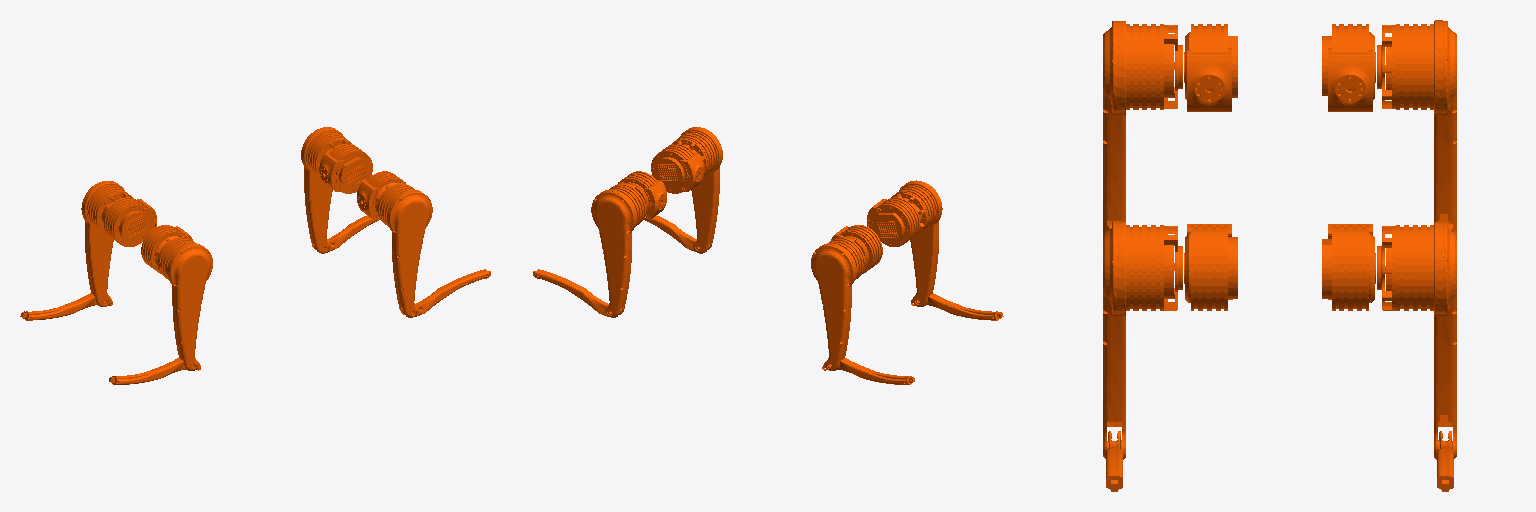
URDF robot description (jamal_description):
<?xml version="1.0" encoding="utf-8"?>
<!-- =================================================================================== -->
<!-- |    This document was autogenerated by xacro from [local-path]/legged_control_ws/src/legged_control/legged_examples/legged_unitree/legged_unitree_description/urdf/robot.xacro | -->
<!-- |    EDITING THIS FILE BY HAND IS NOT RECOMMENDED                                 | -->
<!-- =================================================================================== -->
<robot name="jamal_description">
  <material name="black">
    <color rgba="0.0 0.0 0.0 1.0"/>
  </material>
  <material name="blue">
    <color rgba="0.0 0.0 0.8 1.0"/>
  </material>
  <material name="green">
    <color rgba="0.0 0.8 0.0 1.0"/>
  </material>
  <material name="grey">
    <color rgba="0.2 0.2 0.2 1.0"/>
  </material>
  <material name="silver">
    <color rgba="0.9137254901960784 0.9137254901960784 0.8470588235294118 1.0"/>
  </material>
  <material name="orange">
    <color rgba="1.0 0.4235294117647059 0.0392156862745098 1.0"/>
  </material>
  <material name="brown">
    <color rgba="0.8705882352941177 0.8117647058823529 0.7647058823529411 1.0"/>
  </material>
  <material name="red">
    <color rgba="0.8 0.0 0.0 1.0"/>
  </material>
  <material name="white">
    <color rgba="1.0 1.0 1.0 1.0"/>
  </material>
  <link name="base">
    <visual>
      <origin rpy="0 0 0" xyz="0 0 0"/>
      <geometry>
        <mesh filename="../dae/base.dae" scale="1 1 1"/>
      </geometry>
    </visual>
    <collision>
      <origin rpy="0 0 0" xyz="0 0 0"/>
      <geometry>
        <!-- <box size="0.3762 0.0935 0.114"/> -->
        <box size="0.3762 0.2 0.114"/>
      </geometry>
    </collision>
    <inertial>
      <!-- <origin rpy="0 0 0" xyz="0.03 0 0.0"/> -->
      <origin rpy="0 0 0" xyz="0.0 0 0.0"/>
      <mass value="12.8185384756311"/>
      <inertia ixx="0.0565667940678376" ixy="-8.54731557026013e-06" ixz="3.411601276539e-05" iyy="0.0364645326398335" iyz="-4.86965244292946e-06" izz="0.0737588756462406"/>
    </inertial>
  </link>
  <joint name="FL_hip_joint" type="revolute">
    <origin rpy="0 0 0" xyz="0.2699 0.08028 0"/>
    <parent link="base"/>
    <child link="LF_hip"/>
    <axis xyz="1 0 0"/>
    <dynamics damping="0.01" friction="0.2"/>
    <limit effort="100" lower="-0.863" upper="0.863" velocity="30"/>
  </joint>
  <link name="LF_hip">
    <visual>
      <origin rpy="0 0 0" xyz="0 0 0"/>
      <geometry>
        <mesh filename="../dae/hip.dae" scale="1 1 1"/>
      </geometry>
      <material name="orange"/>
    </visual>
    <collision>
      <origin rpy="1.5707963267948966 0 0" xyz="0 0 0"/>
      <geometry>
        <cylinder length="0.04" radius="0.046"/>
      </geometry>
    </collision>
    <inertial>
      <origin rpy="0 0 0" xyz="0.0 0.0 0.0"/>
      <mass value="0.933762854916433"/>
      <inertia ixx="0.000832273911083319" ixy="2.01742652907359e-06" ixz="-9.96248193966734e-07" iyy="0.00106512043176046" iyz="-3.27660400510853e-06" izz="0.000803680416601427"/>
    </inertial>
  </link>
  <joint name="FL_thigh_joint" type="revolute">
    <origin rpy="0 0 0" xyz="0 0.10755 0"/>
    <parent link="LF_hip"/>
    <child link="LF_thigh"/>
    <axis xyz="0 1 0"/>
    <dynamics damping="0.01" friction="0.2"/>
    <limit effort="100" lower="0.0" upper="1.57" velocity="30"/>
  </joint>
  <link name="LF_thigh">
    <visual>
      <origin rpy="0 0 0" xyz="0 0 0"/>
      <geometry>
        <mesh filename="../dae/thigh.dae" scale="1 1 1"/>
      </geometry>
      <material name="orange"/>
    </visual>
    <collision>
      <!-- <origin rpy="0 ${pi/2.0+0.1} 0" xyz="${thigh_x_offset} 0 ${-thigh_length/2.0}"/> -->
      <origin rpy="0 1.5707963267948966 0" xyz="0.0 0 -0.1125"/>
      <geometry>
        <box size="0.225 0.0245 0.034"/>
      </geometry>
    </collision>
    <collision>
      <origin rpy="1.5707963267948966 0 0" xyz="0 -0.008 0"/>
      <geometry>
        <cylinder length="0.032" radius="0.041"/>
      </geometry>
    </collision>
    <inertial>
      <origin rpy="0 0 0" xyz="0.0 0.0 0.0"/>
      <mass value="1.32134262348697"/>
      <inertia ixx="0.00262880898900224" ixy="3.0753036678596e-07" ixz="-6.6121911239445e-05" iyy="0.00316091750463634" iyz="4.01609105247509e-05" izz="0.00121962195056961"/>
    </inertial>
  </link>
  <joint name="FL_calf_joint" type="revolute">
    <origin rpy="0 0 0" xyz="0 0 -0.225"/>
    <parent link="LF_thigh"/>
    <child link="LF_calf"/>
    <axis xyz="0 1 0"/>
    <dynamics damping="0.01" friction="0.2"/>
    <limit effort="100" lower="-2.62" upper="-0.78" velocity="30"/>
  </joint>
  <link name="LF_calf">
    <visual>
      <!-- <origin rpy="0 0.06 0" xyz="0 0 0"/> -->
      <origin rpy="0 0 0" xyz="0 0 0"/>
      <geometry>
        <mesh filename="../dae/calf.dae" scale="1 1 1"/>
      </geometry>
      <material name="orange"/>
    </visual>
    <collision>
      <origin rpy="0 1.5707963267948966 0" xyz="0.0 0 -0.1175"/>
      <geometry>
        <box size="0.23 0.016 0.016"/>
      </geometry>
    </collision>
    <inertial>
      <origin rpy="0 0 0" xyz="0.0 0.0 0.0"/>
      <mass value="0.12879265462489"/>
      <inertia ixx="0.000445341853265945" ixy="-7.71823686634482e-09" ixz="7.55836697902452e-05" iyy="0.000465686753688402" iyz="4.84096470394828e-09" izz="2.34278965180016e-05"/>
    </inertial>
  </link>
  <joint dont_collapse="true" name="LF_foot_fixed" type="fixed">
    <origin rpy="0 0 0" xyz="0 0 -0.23"/>
    <parent link="LF_calf"/>
    <child link="LF_foot"/>
  </joint>
  <link name="LF_foot">
    <visual>
      <origin xyz="0 0 0" rpy="0 0 0"/>
      <geometry>
        <mesh filename="../dae/foot.dae"/>
      </geometry>
      <material name="orange"/>
    </visual>
    <collision>
      <origin rpy="0 0 0" xyz="0 0 0"/>
      <geometry>
        <sphere radius="0.02"/>
      </geometry>
    </collision>
    <inertial>
      <mass value="0.06"/>
      <inertia ixx="6.936000000000001e-06" ixy="0.0" ixz="0.0" iyy="6.936000000000001e-06" iyz="0.0" izz="6.936000000000001e-06"/>
    </inertial>
  </link>
  <joint name="RL_hip_joint" type="revolute">
    <origin rpy="0 0 0" xyz="-0.2699 0.08028 0"/>
    <parent link="base"/>
    <child link="LH_hip"/>
    <axis xyz="1 0 0"/>
    <dynamics damping="0.01" friction="0.2"/>
    <limit effort="100" lower="-0.863" upper="0.863" velocity="30"/>
  </joint>
  <link name="LH_hip">
    <visual>
      <origin rpy="0 3.141592653589793 0" xyz="0 0 0"/>
      <geometry>
        <mesh filename="../dae/hip.dae" scale="1 1 1"/>
      </geometry>
      <material name="orange"/>
    </visual>
    <collision>
      <origin rpy="1.5707963267948966 0 0" xyz="0 0 0"/>
      <geometry>
        <cylinder length="0.04" radius="0.046"/>
      </geometry>
    </collision>
    <inertial>
      <origin rpy="0 0 0" xyz="-0.0 0.0 0.0"/>
      <mass value="0.933762854916433"/>
      <inertia ixx="0.000832273911083319" ixy="-2.01742652907359e-06" ixz="9.96248193966734e-07" iyy="0.00106512043176046" iyz="-3.27660400510853e-06" izz="0.000803680416601427"/>
    </inertial>
  </link>
  <joint name="RL_thigh_joint" type="revolute">
    <origin rpy="0 0 0" xyz="0 0.10755 0"/>
    <parent link="LH_hip"/>
    <child link="LH_thigh"/>
    <axis xyz="0 1 0"/>
    <dynamics damping="0.01" friction="0.2"/>
    <limit effort="100" lower="-1.57" upper="0.0" velocity="30"/>
  </joint>
  <link name="LH_thigh">
    <visual>
      <origin rpy="0 0 0" xyz="0 0 0"/>
      <geometry>
        <mesh filename="../dae/thigh.dae" scale="1 1 1"/>
      </geometry>
      <material name="orange"/>
    </visual>
    <collision>
      <!-- <origin rpy="0 ${pi/2.0+0.1} 0" xyz="${thigh_x_offset} 0 ${-thigh_length/2.0}"/> -->
      <origin rpy="0 1.5707963267948966 0" xyz="0.0 0 -0.1125"/>
      <geometry>
        <box size="0.225 0.0245 0.034"/>
      </geometry>
    </collision>
    <collision>
      <origin rpy="1.5707963267948966 0 0" xyz="0 -0.008 0"/>
      <geometry>
        <cylinder length="0.032" radius="0.041"/>
      </geometry>
    </collision>
    <inertial>
      <origin rpy="0 0 0" xyz="0.0 0.0 0.0"/>
      <mass value="1.32134262348697"/>
      <inertia ixx="0.00262880898900224" ixy="3.0753036678596e-07" ixz="-6.6121911239445e-05" iyy="0.00316091750463634" iyz="4.01609105247509e-05" izz="0.00121962195056961"/>
    </inertial>
  </link>
  <joint name="RL_calf_joint" type="revolute">
    <origin rpy="0 0 0" xyz="0 0 -0.225"/>
    <parent link="LH_thigh"/>
    <child link="LH_calf"/>
    <axis xyz="0 1 0"/>
    <dynamics damping="0.01" friction="0.2"/>
    <limit effort="100" lower="0.78" upper="2.62" velocity="30"/>
  </joint>
  <link name="LH_calf">
    <visual>
      <!-- <origin rpy="0 0.06 0" xyz="0 0 0"/> -->
      <origin rpy="0 0 0" xyz="0 0 0"/>
      <geometry>
        <mesh filename="../dae/calf.dae" scale="1 1 1"/>
      </geometry>
      <material name="orange"/>
    </visual>
    <collision>
      <origin rpy="0 1.5707963267948966 0" xyz="0.0 0 -0.1175"/>
      <geometry>
        <box size="0.23 0.016 0.016"/>
      </geometry>
    </collision>
    <inertial>
      <origin rpy="0 0 0" xyz="0.0 0.0 0.0"/>
      <mass value="0.12879265462489"/>
      <inertia ixx="0.000445341853265945" ixy="-7.71823686634482e-09" ixz="7.55836697902452e-05" iyy="0.000465686753688402" iyz="4.84096470394828e-09" izz="2.34278965180016e-05"/>
    </inertial>
  </link>
  <joint dont_collapse="true" name="LH_foot_fixed" type="fixed">
    <origin rpy="0 0 0" xyz="0 0 -0.23"/>
    <parent link="LH_calf"/>
    <child link="LH_foot"/>
  </joint>
  <link name="LH_foot">
    <visual>
      <origin xyz="0 0 0" rpy="0 0 0"/>
      <geometry>
        <mesh filename="../dae/foot.dae"/>
      </geometry>
      <material name="orange"/>
    </visual>
    <collision>
      <origin rpy="0 0 0" xyz="0 0 0"/>
      <geometry>
        <sphere radius="0.02"/>
      </geometry>
    </collision>
    <inertial>
      <mass value="0.06"/>
      <inertia ixx="6.936000000000001e-06" ixy="0.0" ixz="0.0" iyy="6.936000000000001e-06" iyz="0.0" izz="6.936000000000001e-06"/>
    </inertial>
  </link>
  <joint name="FR_hip_joint" type="revolute">
    <origin rpy="0 0 0" xyz="0.2699 -0.08028 0"/>
    <parent link="base"/>
    <child link="RF_hip"/>
    <axis xyz="1 0 0"/>
    <dynamics damping="0.01" friction="0.2"/>
    <limit effort="100" lower="-0.863" upper="0.863" velocity="30"/>
  </joint>
  <link name="RF_hip">
    <visual>
      <origin rpy="3.141592653589793 0 0" xyz="0 0 0"/>
      <geometry>
        <mesh filename="../dae/hip.dae" scale="1 1 1"/>
      </geometry>
      <material name="orange"/>
    </visual>
    <collision>
      <origin rpy="1.5707963267948966 0 0" xyz="0 0 0"/>
      <geometry>
        <cylinder length="0.04" radius="0.046"/>
      </geometry>
    </collision>
    <inertial>
      <origin rpy="0 0 0" xyz="0.0 -0.0 0.0"/>
      <mass value="0.933762854916433"/>
      <inertia ixx="0.000832273911083319" ixy="-2.01742652907359e-06" ixz="-9.96248193966734e-07" iyy="0.00106512043176046" iyz="3.27660400510853e-06" izz="0.000803680416601427"/>
    </inertial>
  </link>
  <joint name="FR_thigh_joint" type="revolute">
    <origin rpy="0 0 0" xyz="0 -0.10755 0"/>
    <parent link="RF_hip"/>
    <child link="RF_thigh"/>
    <axis xyz="0 1 0"/>
    <dynamics damping="0.01" friction="0.2"/>
    <limit effort="100" lower="0.0" upper="1.57" velocity="30"/>
  </joint>
  <link name="RF_thigh">
    <visual>
      <origin rpy="0 0 0" xyz="0 0 0"/>
      <geometry>
        <mesh filename="../dae/thigh_mirror.dae" scale="1 1 1"/>
      </geometry>
      <material name="orange"/>
    </visual>
    <collision>
      <!-- <origin rpy="0 ${pi/2.0+0.1} 0" xyz="${thigh_x_offset} 0 ${-thigh_length/2.0}"/> -->
      <origin rpy="0 1.5707963267948966 0" xyz="0.0 0 -0.1125"/>
      <geometry>
        <box size="0.225 0.0245 0.034"/>
      </geometry>
    </collision>
    <collision>
      <origin rpy="1.5707963267948966 0 0" xyz="0 0.008 0"/>
      <geometry>
        <cylinder length="0.032" radius="0.041"/>
      </geometry>
    </collision>
    <inertial>
      <origin rpy="0 0 0" xyz="0.0 -0.0 0.0"/>
      <mass value="1.32134262348697"/>
      <inertia ixx="0.00262880898900224" ixy="-3.0753036678596e-07" ixz="-6.6121911239445e-05" iyy="0.00316091750463634" iyz="-4.01609105247509e-05" izz="0.00121962195056961"/>
    </inertial>
  </link>
  <joint name="FR_calf_joint" type="revolute">
    <origin rpy="0 0 0" xyz="0 0 -0.225"/>
    <parent link="RF_thigh"/>
    <child link="RF_calf"/>
    <axis xyz="0 1 0"/>
    <dynamics damping="0.01" friction="0.2"/>
    <limit effort="100" lower="-2.62" upper="-0.78" velocity="30"/>
  </joint>
  <link name="RF_calf">
    <visual>
      <!-- <origin rpy="0 0.06 0" xyz="0 0 0"/> -->
      <origin rpy="0 0 0" xyz="0 0 0"/>
      <geometry>
        <mesh filename="../dae/calf.dae" scale="1 1 1"/>
      </geometry>
      <material name="orange"/>
    </visual>
    <collision>
      <origin rpy="0 1.5707963267948966 0" xyz="0.0 0 -0.1175"/>
      <geometry>
        <box size="0.23 0.016 0.016"/>
      </geometry>
    </collision>
    <inertial>
      <origin rpy="0 0 0" xyz="0.0 0.0 0.0"/>
      <mass value="0.12879265462489"/>
      <inertia ixx="0.000445341853265945" ixy="-7.71823686634482e-09" ixz="7.55836697902452e-05" iyy="0.000465686753688402" iyz="4.84096470394828e-09" izz="2.34278965180016e-05"/>
    </inertial>
  </link>
  <joint dont_collapse="true" name="RF_foot_fixed" type="fixed">
    <origin rpy="0 0 0" xyz="0 0 -0.23"/>
    <parent link="RF_calf"/>
    <child link="RF_foot"/>
  </joint>
  <link name="RF_foot">
    <visual>
      <origin xyz="0 0 0" rpy="0 0 0"/>
      <geometry>
        <mesh filename="../dae/foot.dae"/>
      </geometry>
      <material name="orange"/>
    </visual>
    <collision>
      <origin rpy="0 0 0" xyz="0 0 0"/>
      <geometry>
        <sphere radius="0.02"/>
      </geometry>
    </collision>
    <inertial>
      <mass value="0.06"/>
      <inertia ixx="6.936000000000001e-06" ixy="0.0" ixz="0.0" iyy="6.936000000000001e-06" iyz="0.0" izz="6.936000000000001e-06"/>
    </inertial>
  </link>
  <joint name="RR_hip_joint" type="revolute">
    <origin rpy="0 0 0" xyz="-0.2699 -0.08028 0"/>
    <parent link="base"/>
    <child link="RH_hip"/>
    <axis xyz="1 0 0"/>
    <dynamics damping="0.01" friction="0.2"/>
    <limit effort="100" lower="-0.863" upper="0.863" velocity="30"/>
  </joint>
  <link name="RH_hip">
    <visual>
      <origin rpy="3.141592653589793 3.141592653589793 0" xyz="0 0 0"/>
      <geometry>
        <mesh filename="../dae/hip.dae" scale="1 1 1"/>
      </geometry>
      <material name="orange"/>
    </visual>
    <collision>
      <origin rpy="1.5707963267948966 0 0" xyz="0 0 0"/>
      <geometry>
        <cylinder length="0.04" radius="0.046"/>
      </geometry>
    </collision>
    <inertial>
      <origin rpy="0 0 0" xyz="-0.0 -0.0 0.0"/>
      <mass value="0.933762854916433"/>
      <inertia ixx="0.000832273911083319" ixy="2.01742652907359e-06" ixz="9.96248193966734e-07" iyy="0.00106512043176046" iyz="3.27660400510853e-06" izz="0.000803680416601427"/>
    </inertial>
  </link>
  <joint name="RR_thigh_joint" type="revolute">
    <origin rpy="0 0 0" xyz="0 -0.10755 0"/>
    <parent link="RH_hip"/>
    <child link="RH_thigh"/>
    <axis xyz="0 1 0"/>
    <dynamics damping="0.01" friction="0.2"/>
    <limit effort="100" lower="-1.57" upper="0.0" velocity="30"/>
  </joint>
  <link name="RH_thigh">
    <visual>
      <origin rpy="0 0 0" xyz="0 0 0"/>
      <geometry>
        <mesh filename="../dae/thigh_mirror.dae" scale="1 1 1"/>
      </geometry>
      <material name="orange"/>
    </visual>
    <collision>
      <!-- <origin rpy="0 ${pi/2.0+0.1} 0" xyz="${thigh_x_offset} 0 ${-thigh_length/2.0}"/> -->
      <origin rpy="0 1.5707963267948966 0" xyz="0.0 0 -0.1125"/>
      <geometry>
        <box size="0.225 0.0245 0.034"/>
      </geometry>
    </collision>
    <collision>
      <origin rpy="1.5707963267948966 0 0" xyz="0 0.008 0"/>
      <geometry>
        <cylinder length="0.032" radius="0.041"/>
      </geometry>
    </collision>
    <inertial>
      <origin rpy="0 0 0" xyz="0.0 -0.0 0.0"/>
      <mass value="1.32134262348697"/>
      <inertia ixx="0.00262880898900224" ixy="-3.0753036678596e-07" ixz="-6.6121911239445e-05" iyy="0.00316091750463634" iyz="-4.01609105247509e-05" izz="0.00121962195056961"/>
    </inertial>
  </link>
  <joint name="RR_calf_joint" type="revolute">
    <origin rpy="0 0 0" xyz="0 0 -0.225"/>
    <parent link="RH_thigh"/>
    <child link="RH_calf"/>
    <axis xyz="0 1 0"/>
    <dynamics damping="0.01" friction="0.2"/>
    <limit effort="100" lower="0.78" upper="2.62" velocity="30"/>
  </joint>
  <link name="RH_calf">
    <visual>
      <!-- <origin rpy="0 0.06 0" xyz="0 0 0"/> -->
      <origin rpy="0 0 0" xyz="0 0 0"/>
      <geometry>
        <mesh filename="../dae/calf.dae" scale="1 1 1"/>
      </geometry>
      <material name="orange"/>
    </visual>
    <collision>
      <origin rpy="0 1.5707963267948966 0" xyz="0.0 0 -0.1175"/>
      <geometry>
        <box size="0.23 0.016 0.016"/>
      </geometry>
    </collision>
    <inertial>
      <origin rpy="0 0 0" xyz="0.0 0.0 0.0"/>
      <mass value="0.12879265462489"/>
      <inertia ixx="0.000445341853265945" ixy="-7.71823686634482e-09" ixz="7.55836697902452e-05" iyy="0.000465686753688402" iyz="4.84096470394828e-09" izz="2.34278965180016e-05"/>
    </inertial>
  </link>
  <joint dont_collapse="true" name="RH_foot_fixed" type="fixed">
    <origin rpy="0 0 0" xyz="0 0 -0.23"/>
    <parent link="RH_calf"/>
    <child link="RH_foot"/>
  </joint>
  <link name="RH_foot">
    <visual>
      <origin xyz="0 0 0" rpy="0 0 0"/>
      <geometry>
        <mesh filename="../dae/foot.dae"/>
      </geometry>
      <material name="orange"/>
    </visual>
    <collision>
      <origin rpy="0 0 0" xyz="0 0 0"/>
      <geometry>
        <sphere radius="0.02"/>
      </geometry>
    </collision>
    <inertial>
      <mass value="0.06"/>
      <inertia ixx="6.936000000000001e-06" ixy="0.0" ixz="0.0" iyy="6.936000000000001e-06" iyz="0.0" izz="6.936000000000001e-06"/>
    </inertial>
  </link>
  <link
    name="imu">
    <inertial>
      <origin
        xyz="0 0 0"
        rpy="0 0 0" />
      <mass
        value="0" />
      <inertia
        ixx="0"
        ixy="0"
        ixz="0"
        iyy="0"
        iyz="0"
        izz="0" />
    </inertial>
  </link>
  <joint
    name="imu_joint"
    type="fixed">
    <origin
      xyz="-0.02557 0 0.04232"
      rpy="0 0 0" />
    <parent
      link="base" />
    <child
      link="imu" />
    <axis
      xyz="0 0 0" />
  </joint>
</robot>

--- Facts derived from the render (not from the file) ---
3 views of the same robot in one strip: view 1: azimuth 30°, elevation 25°; view 2: azimuth 150°, elevation 25°; view 3: azimuth 270°, elevation 25° (orthographic).
Robot: jamal_description — 18 links, 17 joints (12 revolute, 5 fixed); root link base; default pose: joints at zero except 4 at the middle of their limits (FL_calf_joint = -1.7, RL_calf_joint = 1.7, FR_calf_joint = -1.7, RR_calf_joint = 1.7).
Visible links, largest first — view 1: RF_thigh, RH_thigh, LH_thigh, LF_thigh, LF_hip, LH_hip, RF_hip, RH_hip, RF_calf, RH_calf, LH_calf, LF_calf; view 2: LF_thigh, LH_thigh, RH_thigh, RF_thigh, RF_hip, RH_hip, LF_hip, LH_hip, LF_calf, LH_calf, RH_calf, RF_calf; view 3: RF_thigh, LF_thigh, RH_thigh, LH_thigh, RH_hip, LH_hip, RF_hip, LF_hip, LF_calf, RF_calf.
Boxes of the visible links, x1=… form: RF_thigh: x1=376, y1=182, x2=432, y2=317; RH_thigh: x1=156, y1=235, x2=212, y2=370; LH_thigh: x1=81, y1=181, x2=132, y2=306; LF_thigh: x1=301, y1=127, x2=351, y2=253; LF_hip: x1=319, y1=144, x2=372, y2=193; LH_hip: x1=104, y1=197, x2=156, y2=246; RF_hip: x1=357, y1=171, x2=405, y2=219; RH_hip: x1=141, y1=225, x2=192, y2=273; RF_calf: x1=400, y1=269, x2=490, y2=316; RH_calf: x1=109, y1=358, x2=200, y2=384; LH_calf: x1=20, y1=293, x2=112, y2=320; LF_calf: x1=312, y1=215, x2=378, y2=251; LF_thigh: x1=591, y1=182, x2=645, y2=317; LH_thigh: x1=811, y1=235, x2=865, y2=370; RH_thigh: x1=891, y1=180, x2=942, y2=306; RF_thigh: x1=672, y1=127, x2=722, y2=253; RF_hip: x1=651, y1=144, x2=704, y2=193; RH_hip: x1=867, y1=197, x2=919, y2=246; LF_hip: x1=618, y1=171, x2=666, y2=219; LH_hip: x1=831, y1=225, x2=882, y2=273; LF_calf: x1=533, y1=269, x2=623, y2=316; LH_calf: x1=822, y1=358, x2=914, y2=384; RH_calf: x1=911, y1=293, x2=1003, y2=320; RF_calf: x1=645, y1=215, x2=711, y2=251; RF_thigh: x1=1103, y1=222, x2=1182, y2=459; LF_thigh: x1=1377, y1=222, x2=1456, y2=459; RH_thigh: x1=1103, y1=21, x2=1182, y2=234; LH_thigh: x1=1377, y1=20, x2=1456, y2=234; RH_hip: x1=1184, y1=24, x2=1237, y2=111; LH_hip: x1=1322, y1=24, x2=1375, y2=111; RF_hip: x1=1184, y1=224, x2=1237, y2=310; LF_hip: x1=1322, y1=224, x2=1375, y2=310; LF_calf: x1=1437, y1=431, x2=1453, y2=491; RF_calf: x1=1106, y1=431, x2=1122, y2=491.
Size in the robot's own frame: 0.9369 by 0.4028 by 0.2949 metres.
12 mesh visuals loaded from 6 distinct referenced files (4 Collada DAE); not drawn: 5 (reference not matched to a file when rendering).
